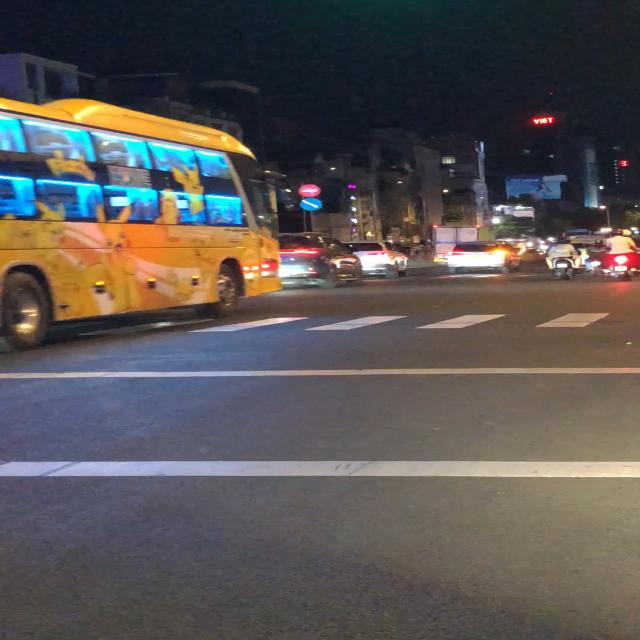Bien bao cam di nguoc chieu: (296, 184, 324, 197)
Bien bao huong phai di vong chuong ngai vat: (298, 198, 324, 213)
